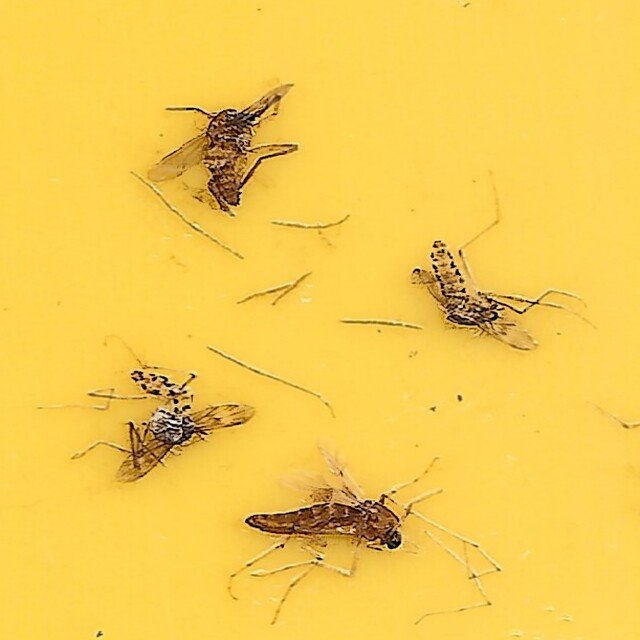Nematocera: (148, 81, 295, 213), (105, 365, 257, 485), (407, 236, 535, 354), (246, 492, 410, 559)
